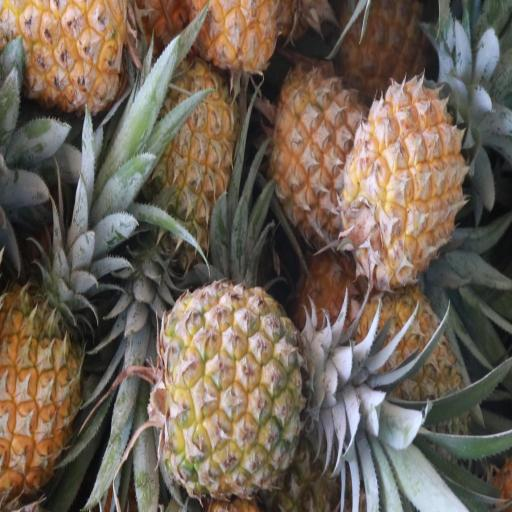------------------------------: (160, 285, 312, 492), (354, 290, 469, 460), (269, 68, 363, 249)
Pineapple - v8 v1: (344, 82, 464, 283), (142, 66, 234, 266), (0, 287, 85, 500), (0, 0, 125, 119), (343, 0, 429, 91)
